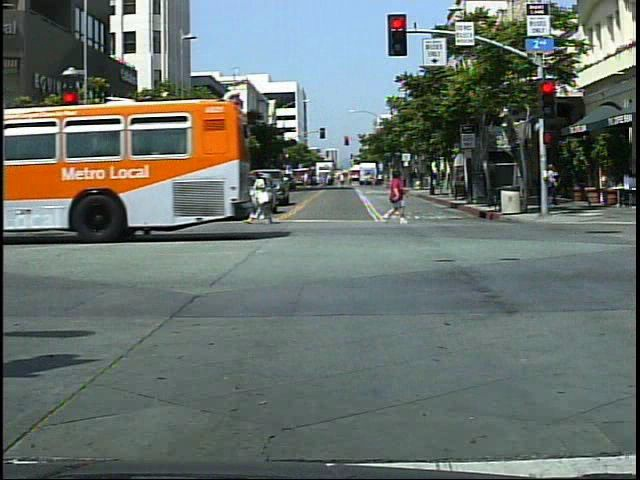person: (248, 166, 280, 230), (139, 169, 169, 235), (384, 166, 408, 228), (546, 161, 564, 212)
